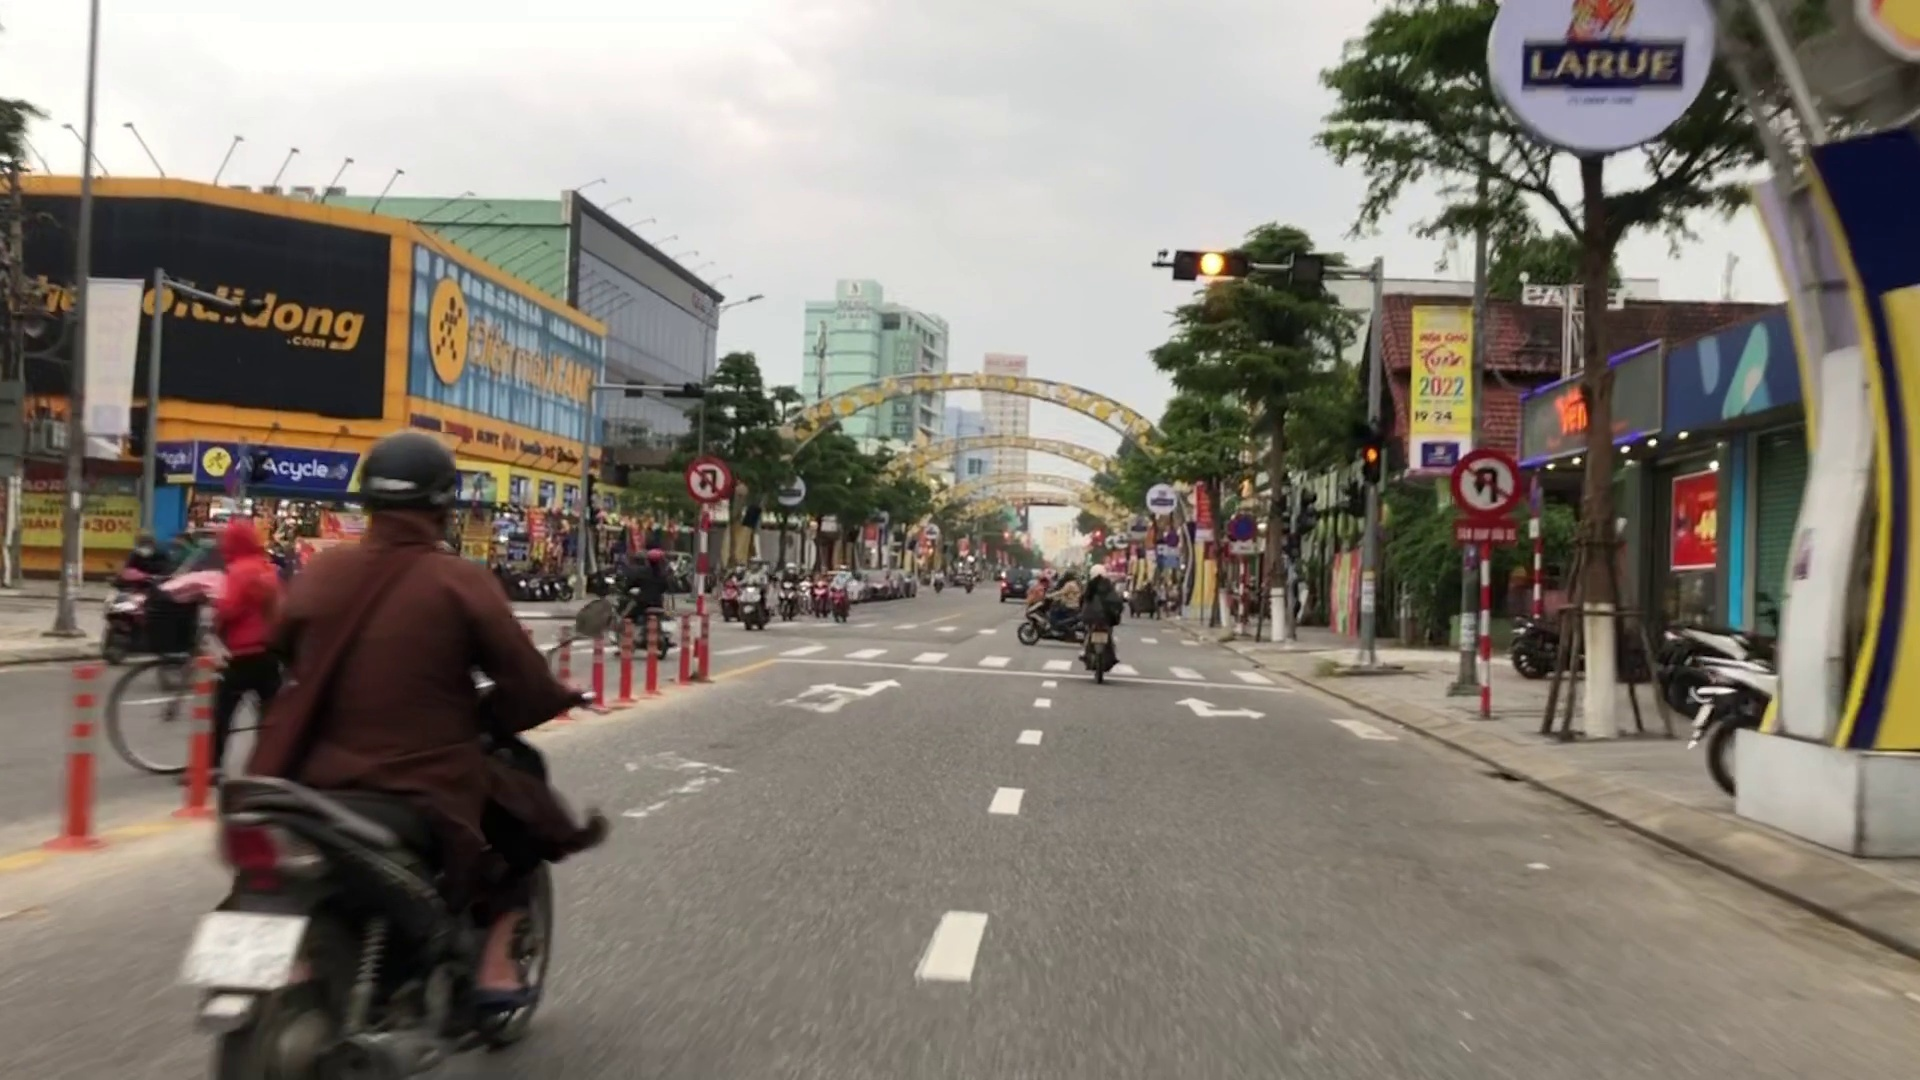Bien khac: (1449, 447, 1520, 516), (687, 456, 731, 504)
Cam do xe: (1226, 510, 1261, 543)
